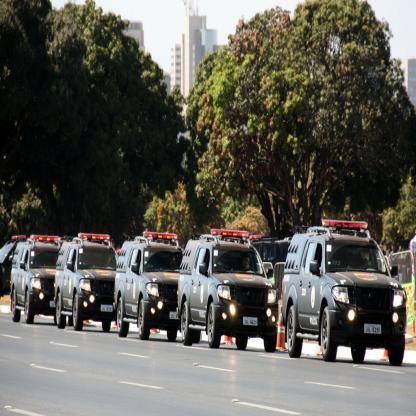Car: (11, 220, 409, 364)
